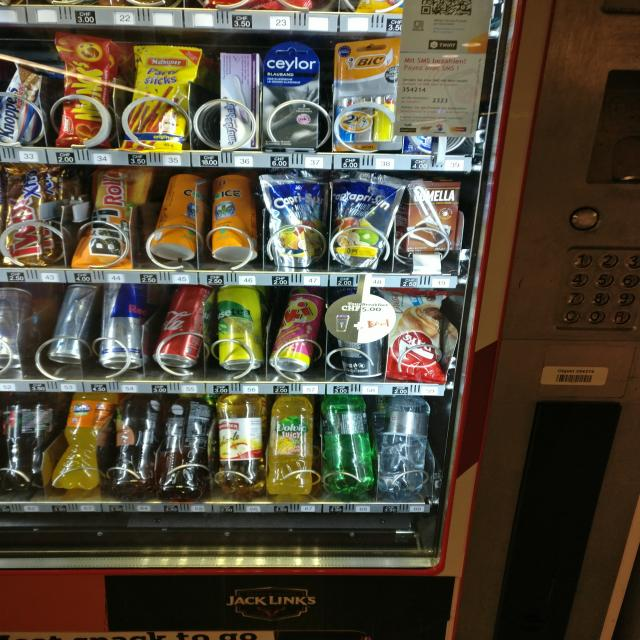7days_croissantschoko_packung_80_1_0000000000003: (378, 286, 450, 386)
bifi_roll__50__4251097402635: (84, 164, 139, 268)
c-swiss_dosenabisicetea__33__9120025930135: (146, 171, 208, 264), (207, 169, 261, 269)
caferoyal_classicmacchiato__33__7617014164487: (329, 293, 388, 384)
caprisun_multivitamin__20__4000177605004: (258, 168, 326, 265), (333, 169, 395, 265)
coke__dose_33__54491472: (154, 283, 212, 368)
coke__flasche_50__54491472: (0, 388, 52, 492)
comella_schokodrink__33__7613100037253: (402, 177, 462, 256)
fanta___50__40822938: (57, 388, 113, 488)
fuse_lemon__50__5449000235947: (160, 395, 212, 499)
fuse_lemon_dose_33__5449000235947: (213, 285, 266, 370)
fuse_peach__50__5449000236623: (112, 394, 164, 496)
lorenz_nicnacs__40__4018077798818: (49, 26, 121, 147)
malburner_partysticks__40__7610200279682: (121, 44, 200, 148)
ramseier_schorle__50__7610057012456: (215, 391, 270, 494)
redbull___33__90162909: (45, 282, 96, 363), (102, 282, 146, 371)
tiki_himbeer_brause__50__00000000009342: (267, 289, 325, 369)
twix___50__5000159459228: (2, 163, 49, 267)
valser_classic__50__76404160: (318, 394, 380, 494)
valser_still__50__7610335002575: (380, 396, 432, 498)
volvic_pinapple__50__305764335648: (263, 393, 321, 495)
